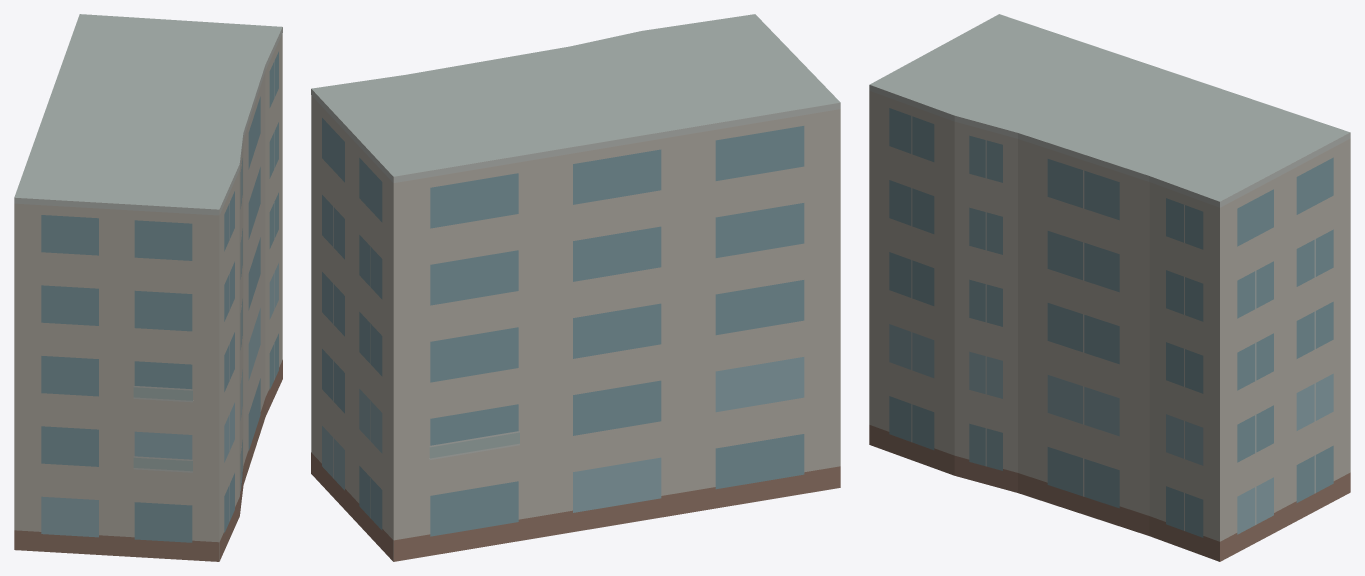
The model's file is survey-upis-32957313.glb.
The picture shows the model from 3 angles, left to right: view 1: azimuth 30°, elevation 25°; view 2: azimuth 150°, elevation 25°; view 3: azimuth 270°, elevation 25°; orthographic projection. The views are drawn at different scales.
Visible parts, largest first — view 1: survey-upis-32957313.tmp; view 2: survey-upis-32957313.tmp; view 3: survey-upis-32957313.tmp.
Boxes of the visible parts, x1=… form: survey-upis-32957313.tmp: x1=14, y1=14, x2=282, y2=561; survey-upis-32957313.tmp: x1=311, y1=14, x2=840, y2=561; survey-upis-32957313.tmp: x1=869, y1=14, x2=1350, y2=561.
Size of the model in its own units: 16.34 by 14.6 by 17.69.
